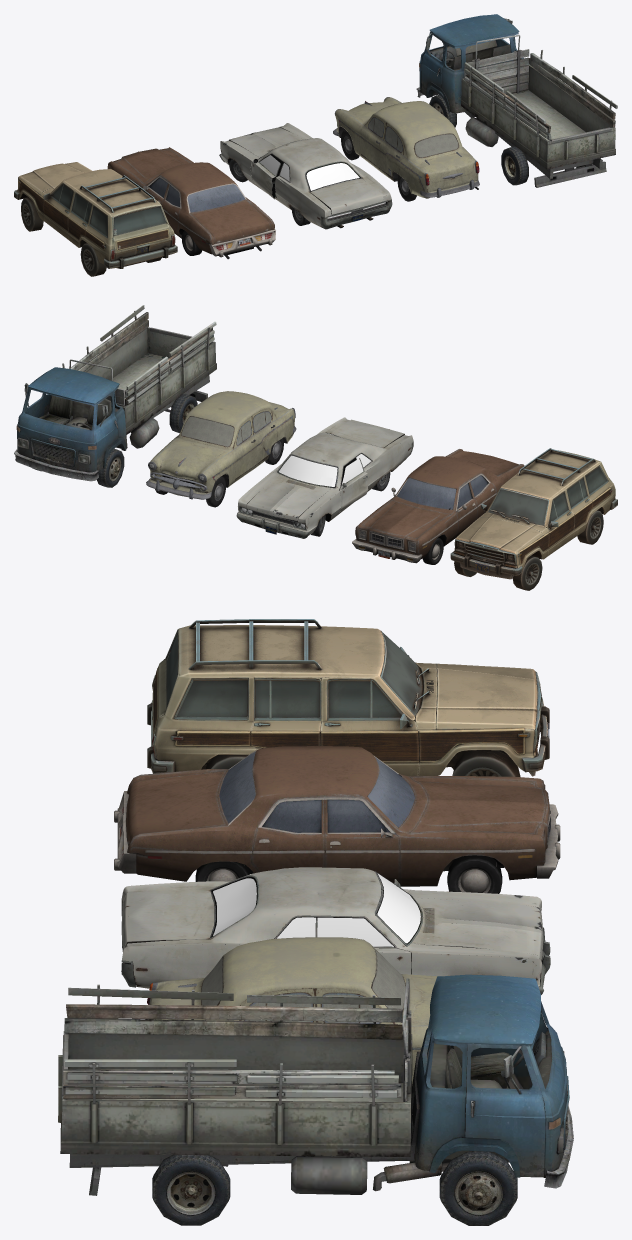
3 views of the same model, one above another, from view 1: azimuth 30°, elevation 25°; view 2: azimuth 150°, elevation 25°; view 3: azimuth 270°, elevation 25° (orthographic). The views are drawn at different scales.
Visible parts, largest first — view 1: Object_8, Object_4, Object_2, Object_3, Object_6, Object_5, Object_7; view 2: Object_8, Object_4, Object_2, Object_3, Object_6, Object_5, Object_7; view 3: Object_8, Object_3, Object_4, Object_6, Object_2, Object_7, Object_5.
Part boxes in pixels (x1,y1,x2,y2): Object_8: (416, 14, 617, 187); Object_4: (14, 162, 177, 276); Object_2: (333, 97, 479, 201); Object_3: (107, 147, 275, 259); Object_6: (219, 123, 392, 229); Object_5: (260, 155, 385, 218); Object_7: (429, 94, 592, 185); Object_8: (14, 305, 216, 481); Object_4: (450, 448, 617, 590); Object_2: (146, 391, 296, 507); Object_3: (352, 449, 524, 564); Object_6: (236, 417, 413, 538); Object_5: (241, 433, 371, 527); Object_7: (32, 394, 197, 487); Object_8: (58, 974, 573, 1195); Object_3: (114, 746, 560, 893); Object_4: (147, 619, 549, 777); Object_6: (121, 867, 550, 994); Object_2: (145, 937, 441, 1085); Object_7: (152, 1151, 517, 1225); Object_5: (131, 873, 420, 963).
Bounding box in the file's own units: 54.32 × 10.32 × 24.5.
Materials: 7 (6 with a texture image).
